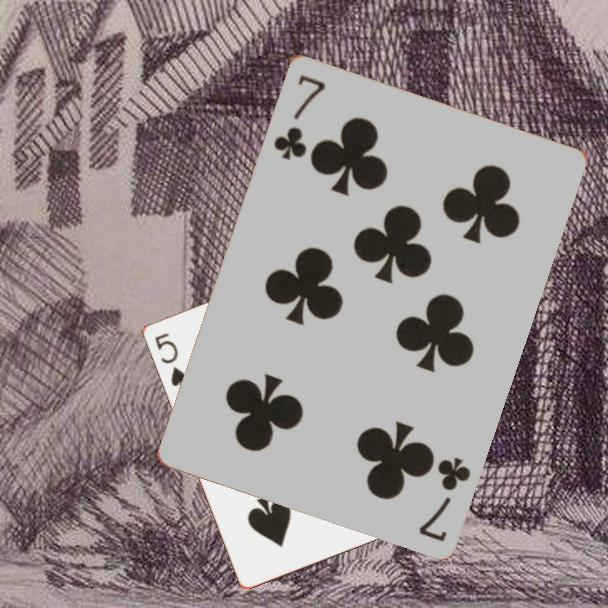c07: (270, 70, 328, 163), (415, 453, 473, 544)
s05: (151, 329, 190, 392)
